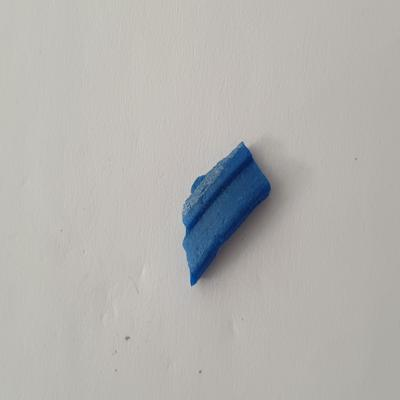plastic: (177, 136, 275, 289)
